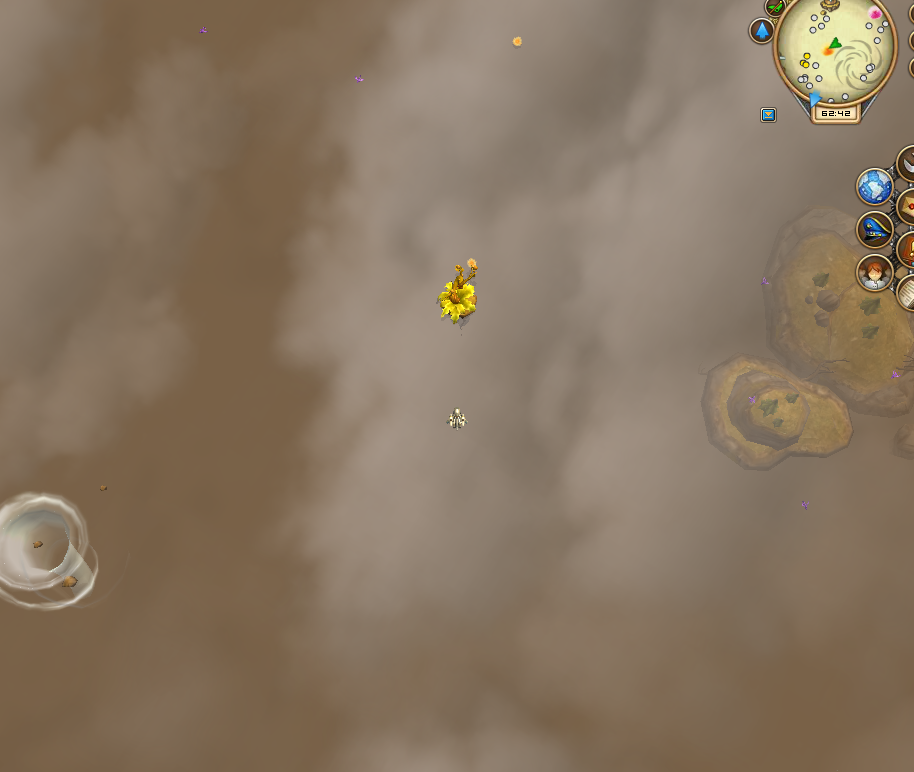dandelion-full: (423, 247, 490, 332)
fluff: (507, 29, 526, 51)
